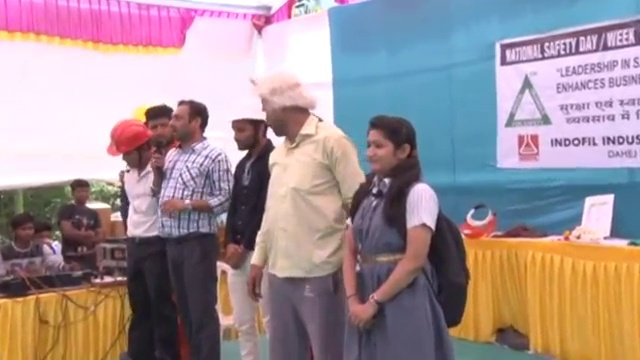helmet: (106, 119, 154, 159)
helmet_off: (357, 118, 421, 190), (259, 78, 316, 137), (170, 102, 208, 152), (10, 211, 38, 253), (146, 107, 172, 141), (33, 220, 55, 251), (70, 180, 90, 207)
helmet_on: (108, 118, 160, 173), (223, 98, 268, 154)
person: (247, 77, 368, 360), (343, 111, 470, 360), (160, 102, 235, 341), (109, 120, 166, 360), (223, 98, 275, 360), (0, 211, 75, 276), (57, 179, 102, 264)
